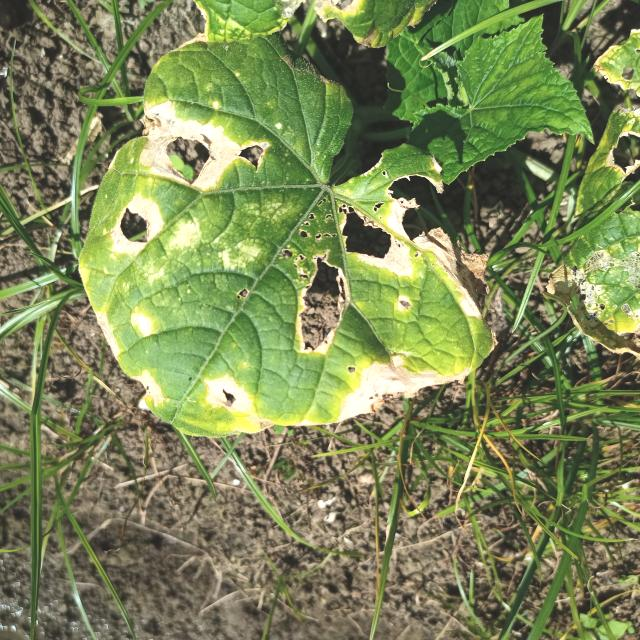disease_cucumber: (87, 101, 467, 421)
